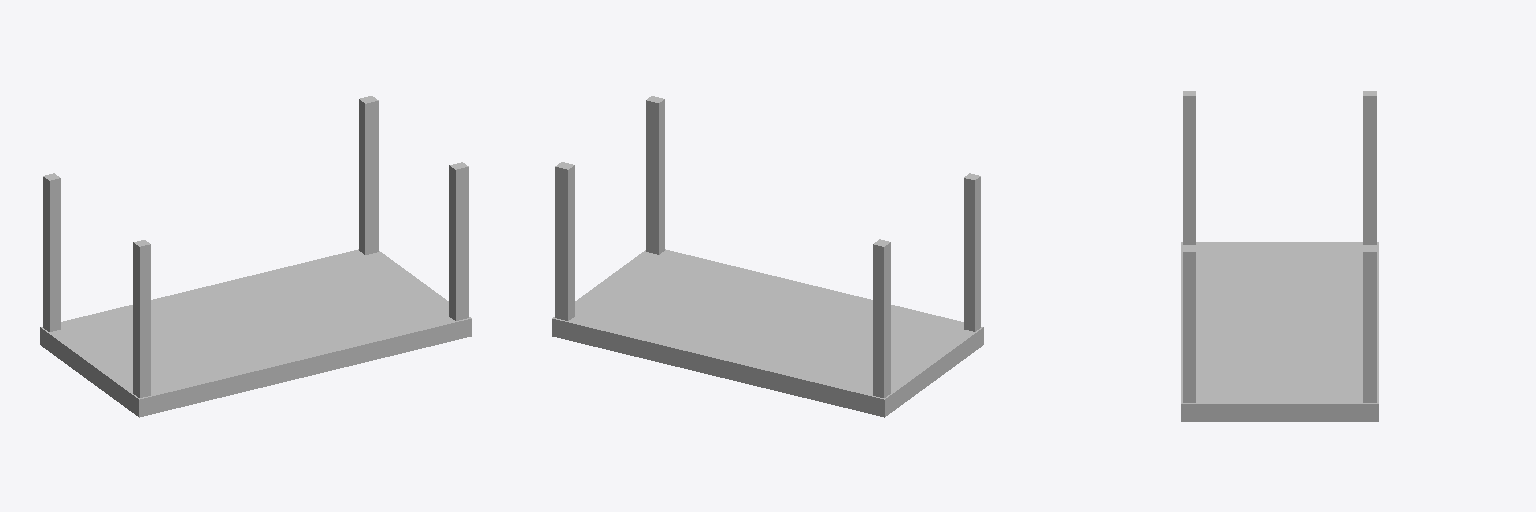
Rendered from table.OBJ.
The picture shows the model from 3 angles: view 1: azimuth 30°, elevation 25°; view 2: azimuth 150°, elevation 25°; view 3: azimuth 270°, elevation 25°; orthographic projection.
Parts seen in each view (by area): view 1: Group18535, Group4945; view 2: Group18535, Group4945; view 3: Group18535, Group4945.
Boxes of the visible parts, x1,y1,x2,y2 form: Group18535: [40, 249, 471, 417]; Group4945: [43, 99, 468, 397]; Group18535: [552, 249, 983, 417]; Group4945: [555, 99, 980, 397]; Group18535: [1181, 242, 1378, 421]; Group4945: [1183, 96, 1376, 402].
Size of the model in its own units: 2.51 by 1.22 by 1.29.